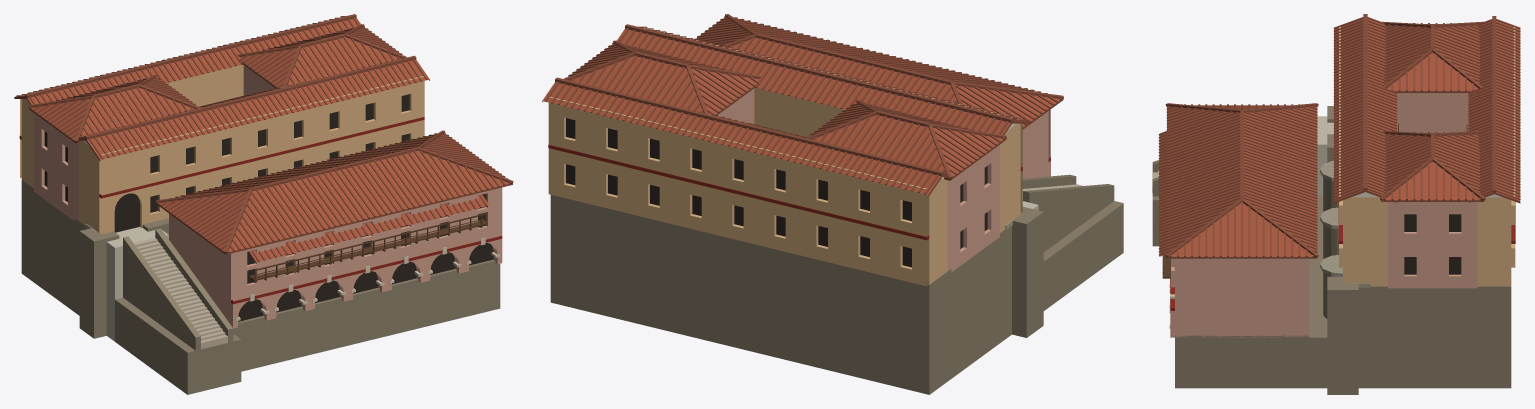
The model's file is rome_pal_block_a.glb.
The picture shows the model from 3 angles, left to right: view 1: azimuth 30°, elevation 25°; view 2: azimuth 150°, elevation 25°; view 3: azimuth 270°, elevation 25°; orthographic projection. The views are drawn at different scales.
Parts seen in each view (by area): view 1: rome_pal_block_a; view 2: rome_pal_block_a; view 3: rome_pal_block_a.
Part boxes in pixels (x1=…): rome_pal_block_a: x1=14, y1=14, x2=513, y2=394; rome_pal_block_a: x1=542, y1=14, x2=1123, y2=394; rome_pal_block_a: x1=1152, y1=14, x2=1520, y2=394.
Size of the model in its own units: 38.8 by 21.44 by 32.84.
